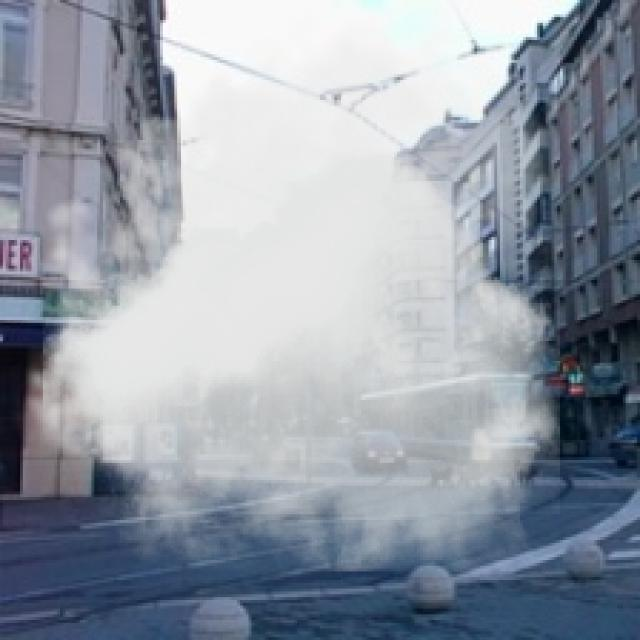smoke: (9, 3, 560, 571)
